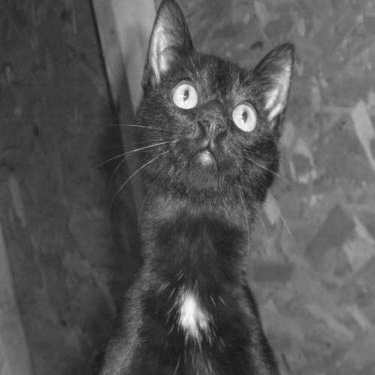cat: (126, 1, 291, 364)
